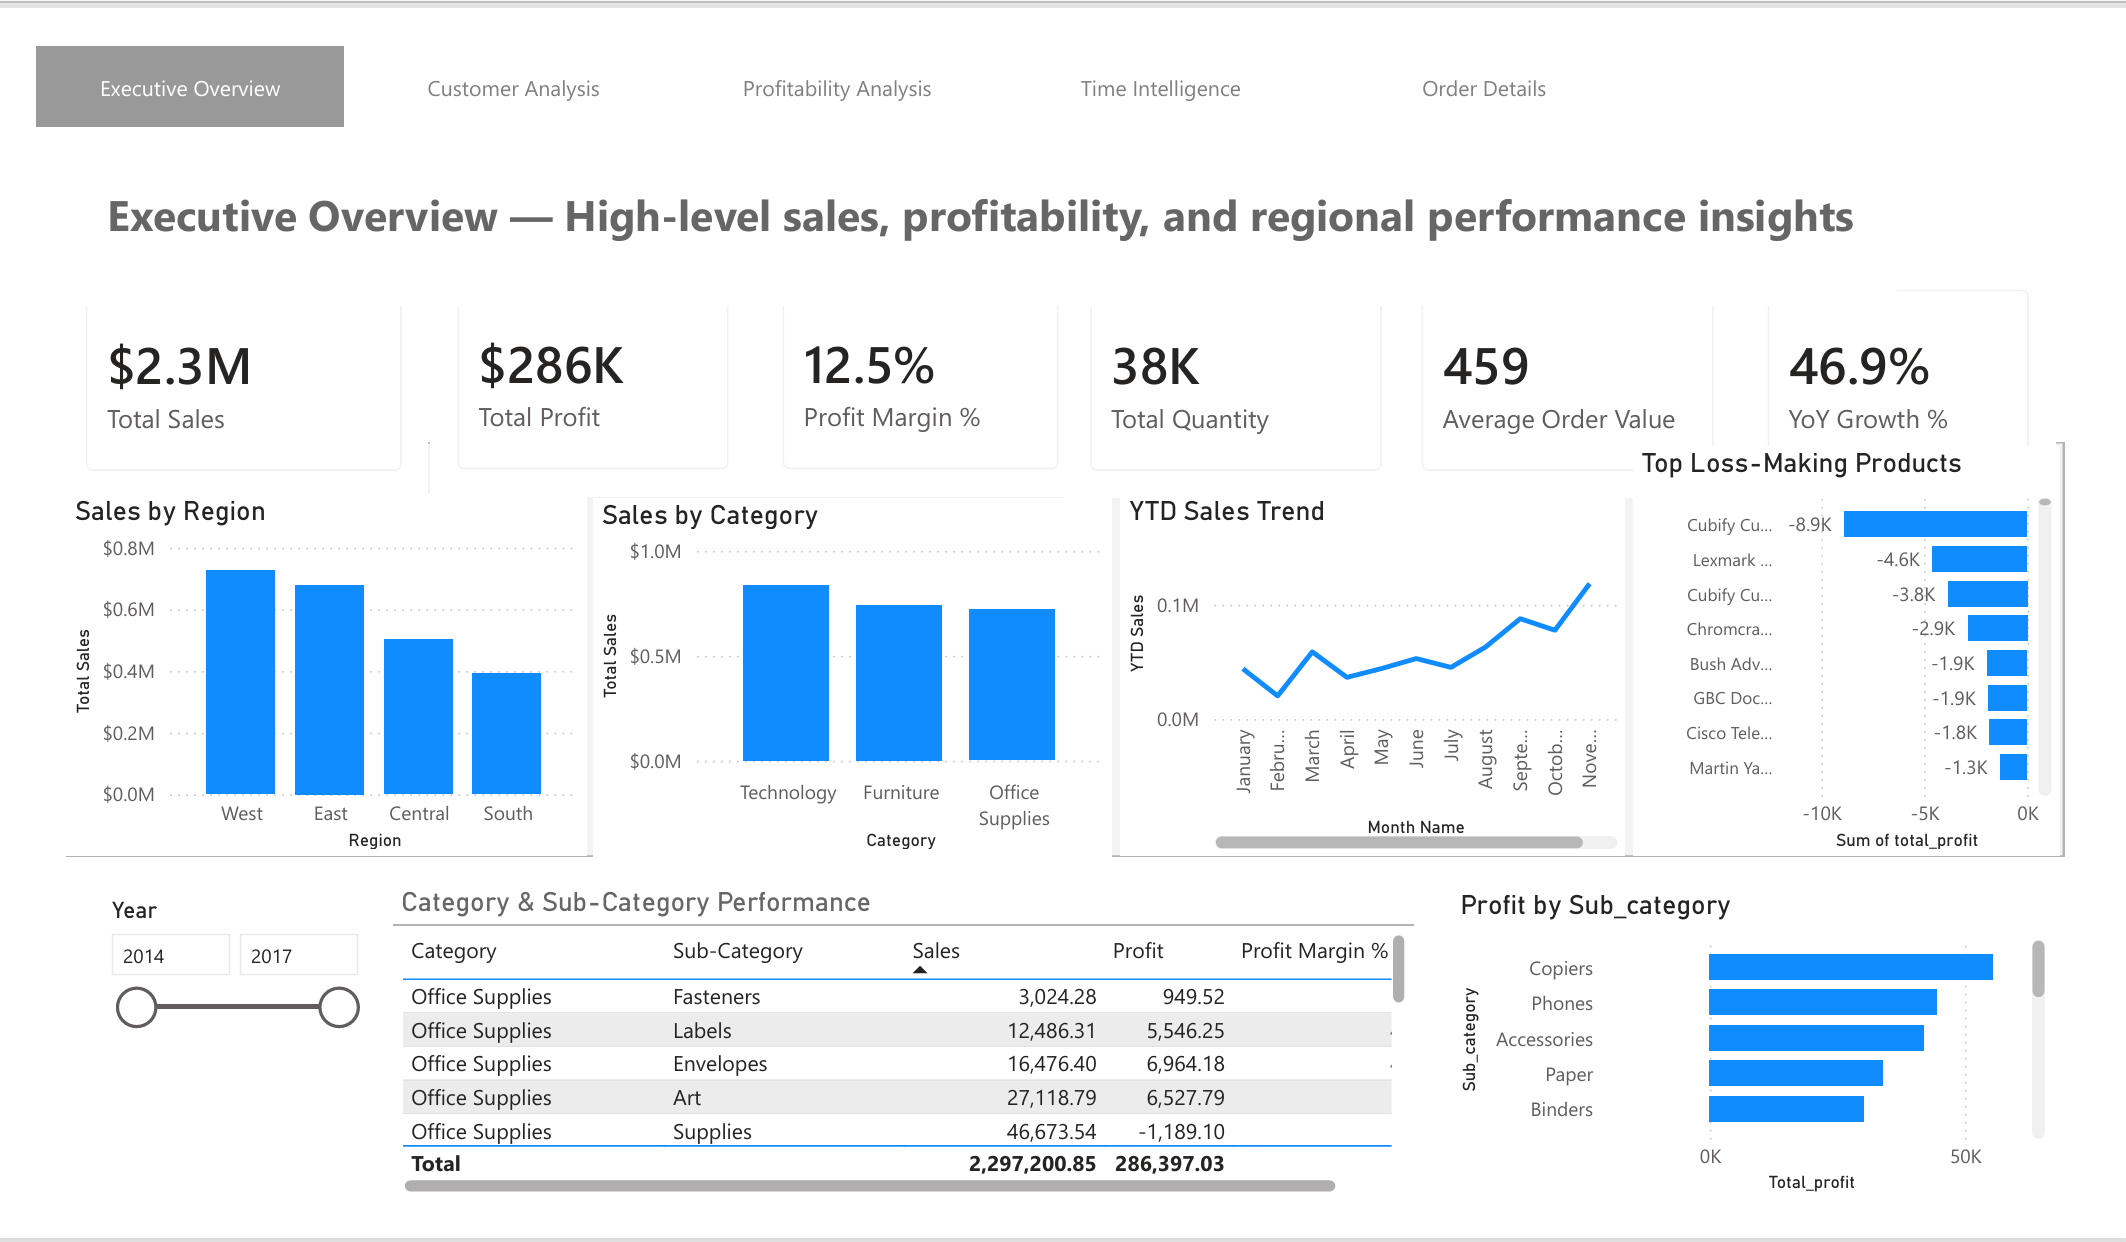

Layout of this report page (visuals, bound fields, positions):
{"tool":"powerbi","page":{"name":"Executive Overview","canvas":[1280,720],"ordinal":0},"visuals":[{"type":"shape","box":[19,246.8,1246.8,259.5],"z":0},{"type":"cardVisual","fields":{"Data":["Sample - Superstore.Total Sales"]},"box":[14.5,134.5,231,147.1],"z":1000},{"type":"cardVisual","fields":{"Data":["Sample - Superstore.Total Profit"]},"box":[246.2,134.2,202.7,146.7],"z":2000},{"type":"cardVisual","fields":{"Data":["Sample - Superstore.Total Quantity"]},"box":[641,135.1,216.2,146.7],"z":3000},{"type":"cardVisual","fields":{"Data":["Sample - Superstore.Average Order Value"]},"box":[847.5,135.1,216.2,146.7],"z":4000},{"type":"cardVisual","fields":{"Data":["Sample - Superstore.Profit Margin %"]},"box":[448.9,134.2,206.6,146.7],"z":5000},{"type":"columnChart","title":"Sales by Category","fields":{"Y":["Sample - Superstore.Total Sales"],"Category":["Sample - Superstore.Category"]},"box":[348.1,281.6,324.4,224.7],"z":6000},{"type":"columnChart","title":"Sales by Region","fields":{"Category":["Sample - Superstore.Region"],"Y":["Sample - Superstore.Total Sales"]},"box":[19,280,325,226.3],"z":7000},{"type":"lineChart","title":"YTD Sales Trend","fields":{"Y":["Date Table.YTD Sales"],"Category":["DateTable.Month Name"]},"box":[677.2,280,314.9,226.3],"z":8000},{"type":"slicer","fields":{"Values":["Date Table.Year"]},"box":[34.1,526.4,176.1,193.1],"z":9000},{"type":"cardVisual","fields":{"Data":["Date Table.YoY Growth %"]},"box":[1063.8,135.1,196.9,146.7],"z":10000},{"type":"tableEx","title":"Category & Sub-Category Performance","fields":{"Values":["public vw_category_performance.category","public vw_category_performance.sub_category","Sum(public vw_category_performance.total_sales)","Sum(public vw_category_performance.total_profit)","public vw_category_performance.profit_margin_pct"]},"box":[223.4,524.5,636.2,195],"z":11000},{"type":"clusteredBarChart","title":"Top Loss-Making Products","fields":{"Category":["public vw_loss_products.product_name"],"Y":["Sum(public vw_loss_products.total_profit)"]},"box":[996.8,250,265.8,256.3],"z":12000},{"type":"clusteredBarChart","title":"Profit by Sub_category","fields":{"Category":["public vw_category_performance.sub_category"],"Y":["Sum(public vw_category_performance.total_profit)"]},"box":[884.3,526.4,374.9,193.1],"z":13000},{"type":"pageNavigator","box":[0,0,1000,50],"z":14000},{"type":"textbox","box":[17.4,81.1,1144.9,81.1],"z":15000}]}

Visuals, with their boxes on the page's 1280x720 design canvas (x1, y1, x2, y2). These are canvas units, not pixel positions in the 2126x1242 screenshot, which may show the page scaled, cropped or inside an application window:
shape: pyautogui.locateOnScreen(19, 247, 1266, 506)
cardVisual - Sample - Superstore.Total Sales: pyautogui.locateOnScreen(14, 134, 246, 282)
cardVisual - Sample - Superstore.Total Profit: pyautogui.locateOnScreen(246, 134, 449, 281)
cardVisual - Sample - Superstore.Total Quantity: pyautogui.locateOnScreen(641, 135, 857, 282)
cardVisual - Sample - Superstore.Average Order Value: pyautogui.locateOnScreen(848, 135, 1064, 282)
cardVisual - Sample - Superstore.Profit Margin %: pyautogui.locateOnScreen(449, 134, 656, 281)
"Sales by Category" columnChart: pyautogui.locateOnScreen(348, 282, 672, 506)
"Sales by Region" columnChart: pyautogui.locateOnScreen(19, 280, 344, 506)
"YTD Sales Trend" lineChart: pyautogui.locateOnScreen(677, 280, 992, 506)
slicer - Date Table.Year: pyautogui.locateOnScreen(34, 526, 210, 720)
cardVisual - Date Table.YoY Growth %: pyautogui.locateOnScreen(1064, 135, 1261, 282)
"Category & Sub-Category Performance" tableEx: pyautogui.locateOnScreen(223, 524, 860, 720)
"Top Loss-Making Products" clusteredBarChart: pyautogui.locateOnScreen(997, 250, 1263, 506)
"Profit by Sub_category" clusteredBarChart: pyautogui.locateOnScreen(884, 526, 1259, 720)
pageNavigator: pyautogui.locateOnScreen(0, 0, 1000, 50)
textbox: pyautogui.locateOnScreen(17, 81, 1162, 162)
